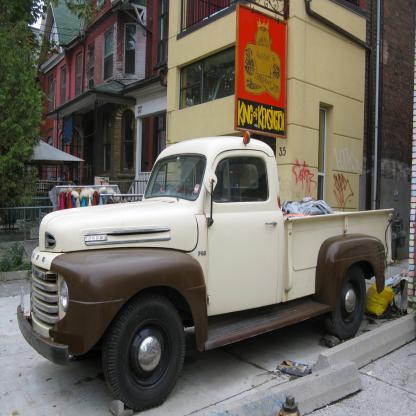Truck: (24, 136, 405, 395)
